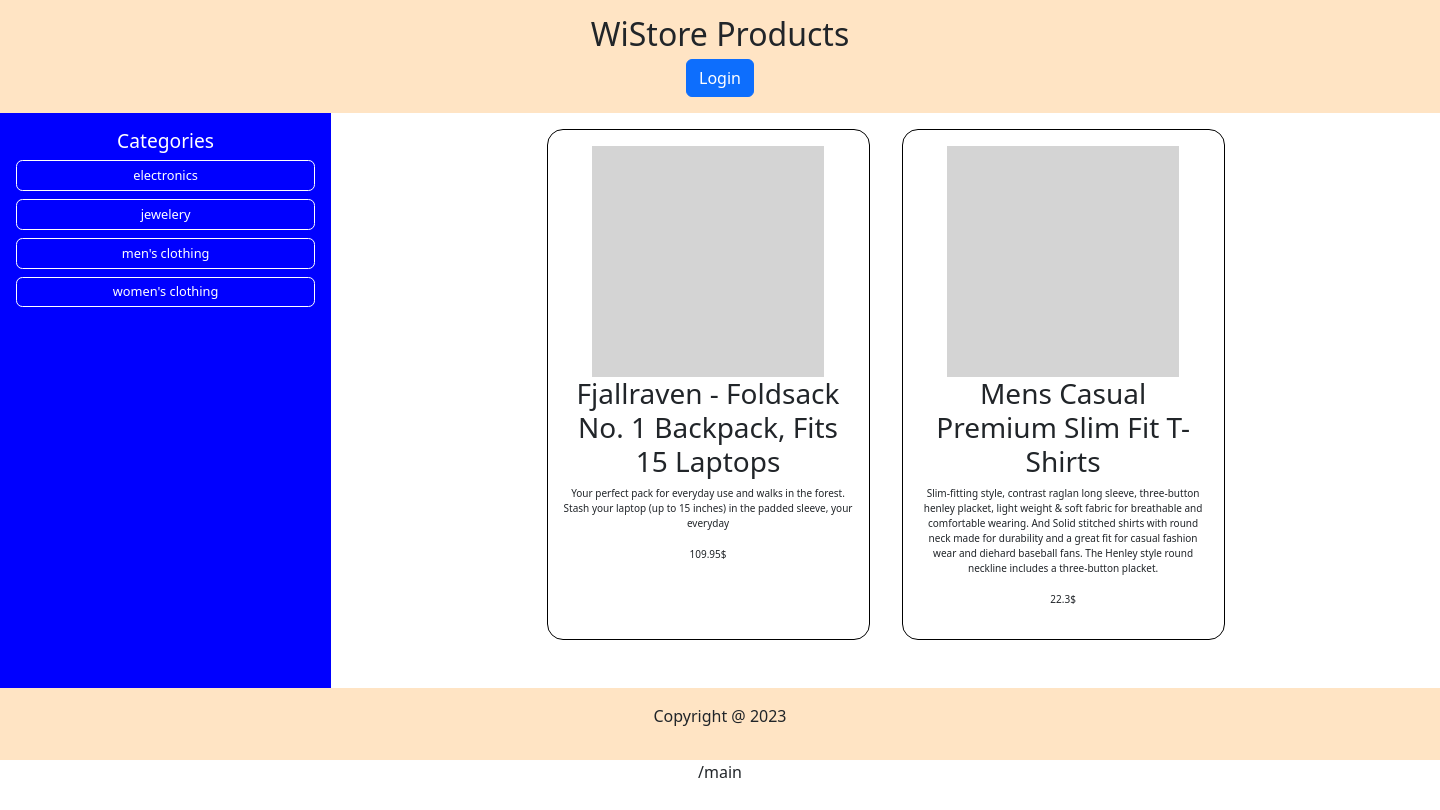
Scenario: Login form yanlış email, doğru password ile doldurulunca error sayfasına yönleniyor
Click the button "Login" at point(720, 78), box [686,59,754,97]
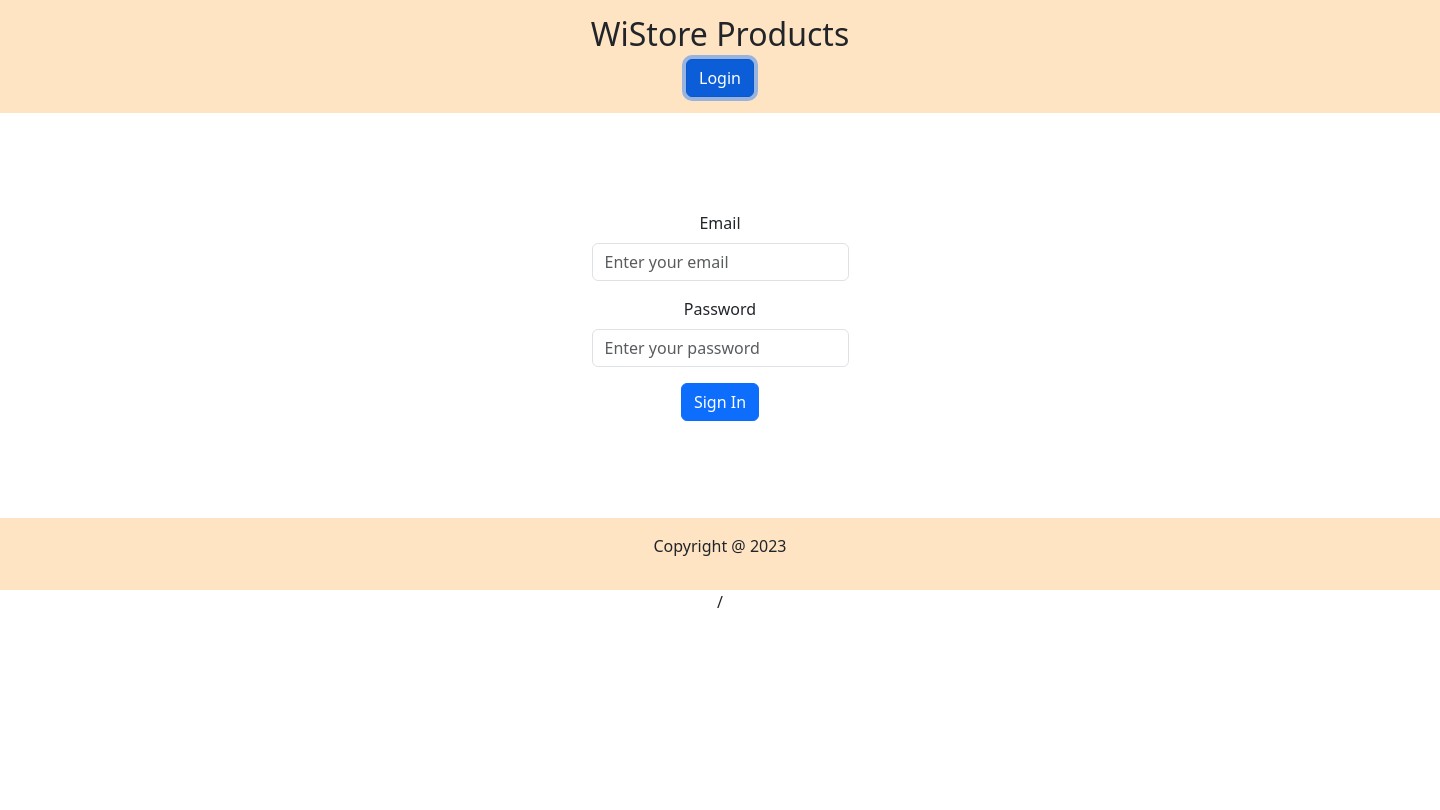
Type "erdem@wit.com.tr" into the field with placeholder "Enter your email" at point(720, 262), box [592,243,848,281]
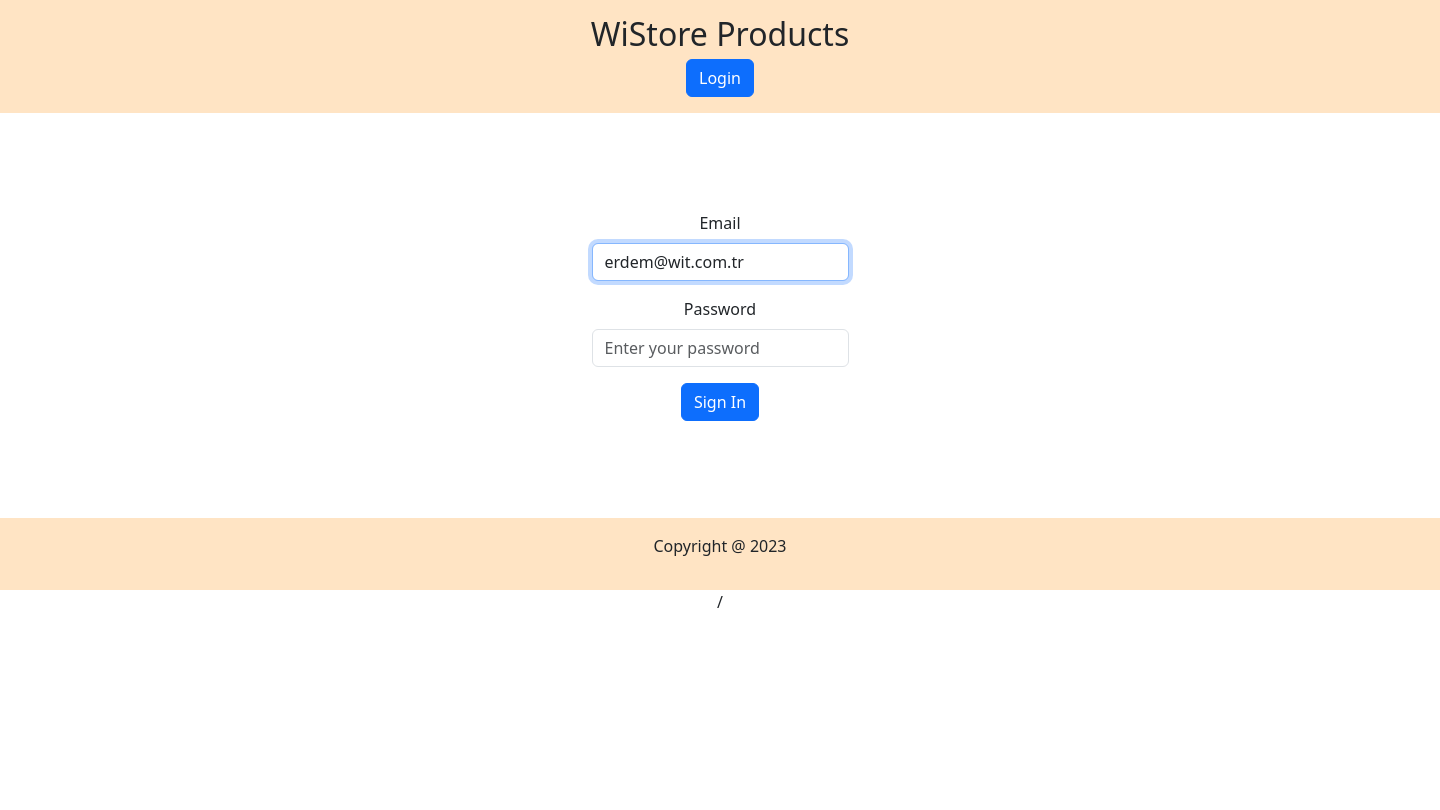
Type "9fxIH0GXesEwH_I" into the password field with placeholder "Enter your password" at point(720, 348), box [592,329,848,367]
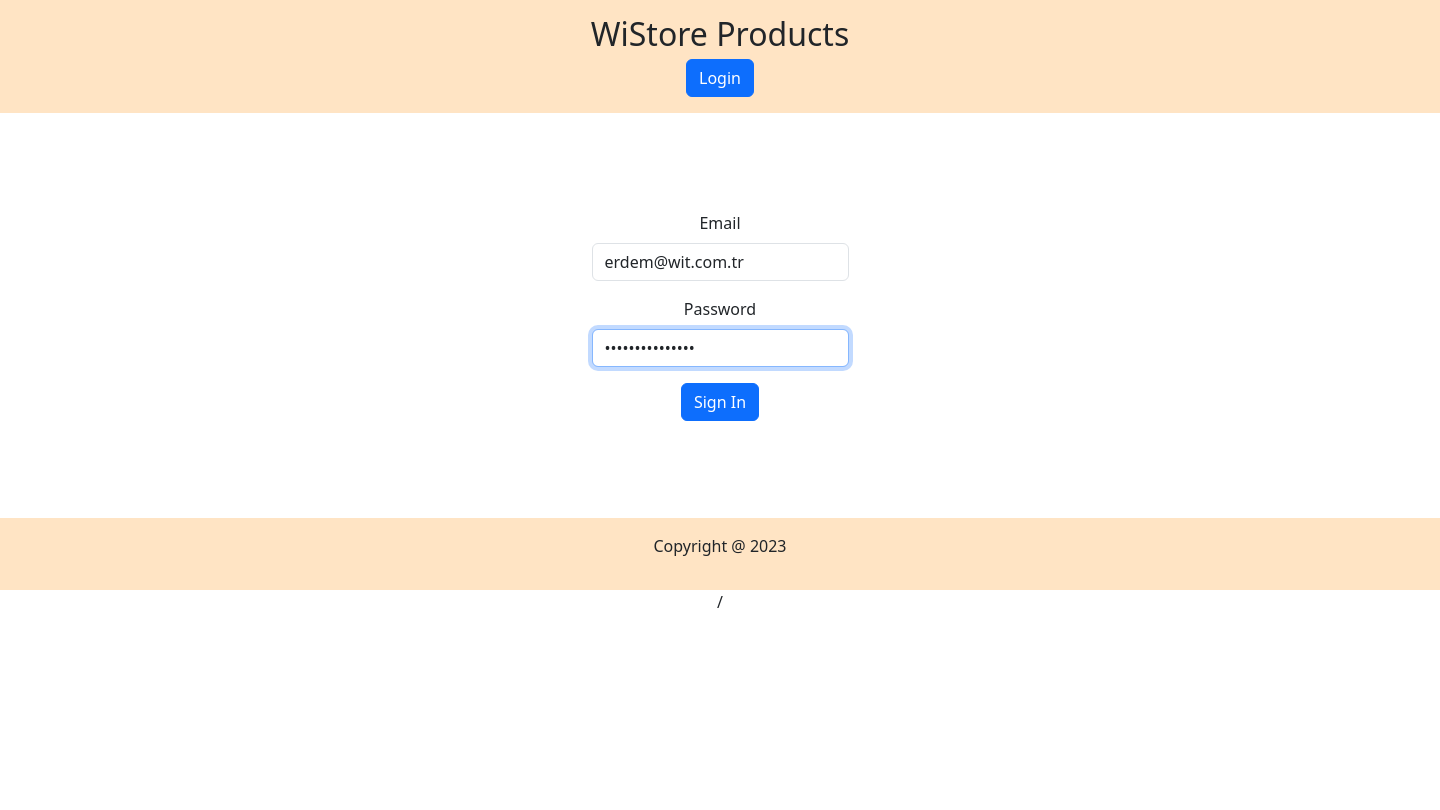
Click the button "Sign In" at point(720, 402), box [681,383,759,421]
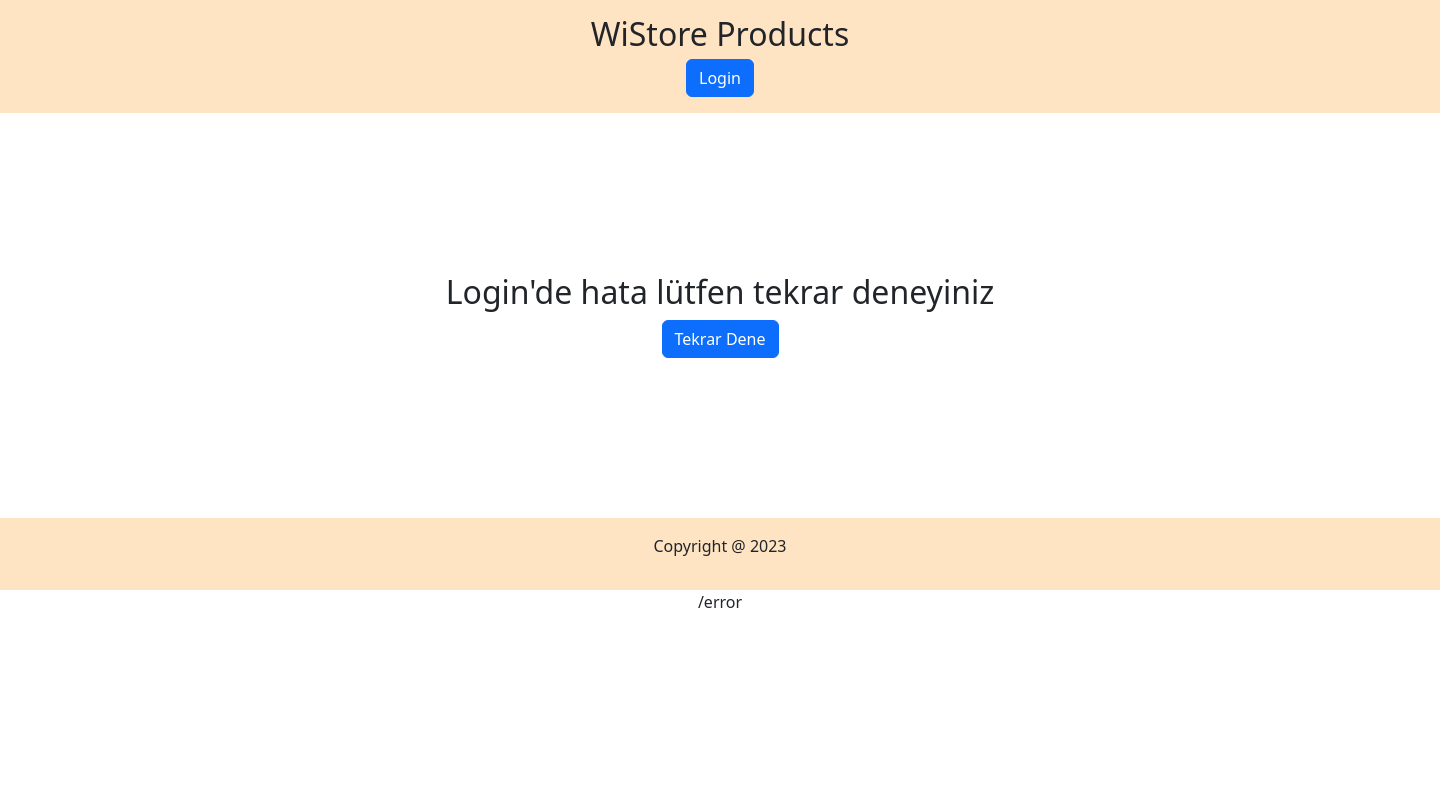
Expected: the text "/error" is shown, [698,591,742,613]
